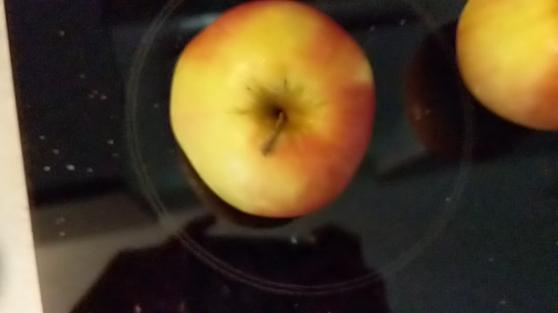apple: (165, 2, 379, 219), (451, 1, 557, 138)
